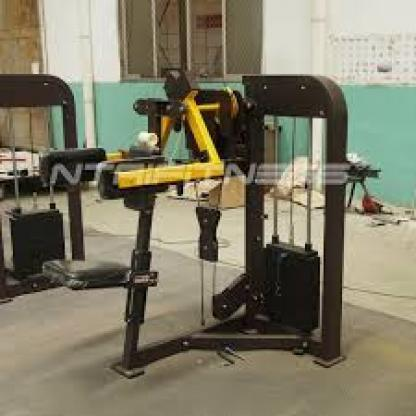lateral raises machine: (45, 67, 348, 379)
